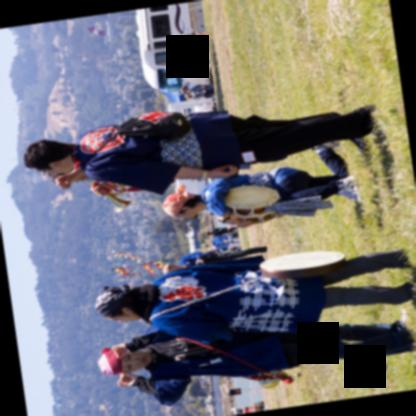backpack: (117, 109, 191, 138)
handbag: (175, 336, 293, 385)
